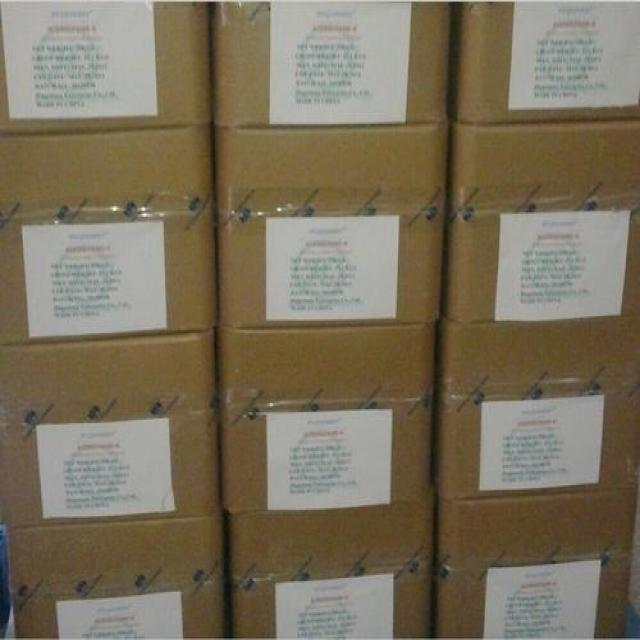box: (212, 123, 448, 328), (0, 123, 215, 347), (0, 330, 221, 530), (216, 323, 438, 513), (443, 122, 639, 324), (434, 313, 639, 500), (433, 487, 637, 638), (211, 3, 453, 123), (0, 0, 213, 136), (225, 499, 433, 638), (6, 513, 225, 638), (451, 3, 639, 126)
